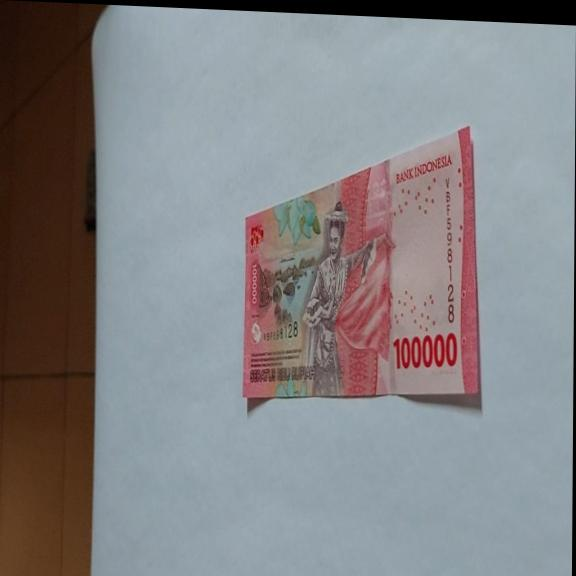Kertas: (392, 328, 458, 372)
